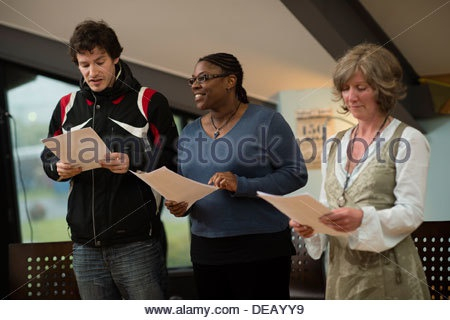bad: (69, 46, 112, 89), (337, 78, 373, 114)
